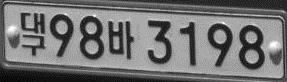1: (178, 21, 203, 65)
3: (147, 19, 172, 64)
8: (238, 24, 266, 70), (78, 15, 105, 60)
9: (207, 22, 232, 67), (49, 13, 74, 57)
대구_V: (20, 11, 46, 56)
바: (107, 20, 135, 59)
